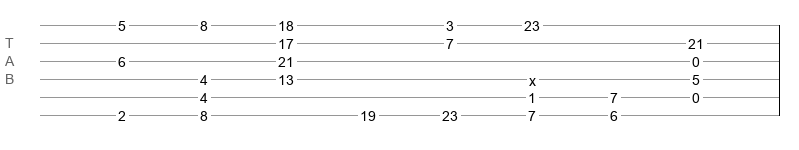0: (692, 90, 700, 100), (692, 54, 700, 64)
1: (528, 90, 536, 100)
13: (278, 72, 294, 82)
17: (278, 36, 294, 46)
18: (278, 18, 294, 28)
19: (360, 108, 376, 118)
2: (118, 108, 126, 118)
21: (278, 54, 294, 64), (688, 36, 704, 46)
23: (442, 108, 458, 118), (524, 18, 540, 28)
3: (446, 18, 454, 28)
4: (200, 90, 208, 100), (200, 72, 208, 82)
5: (118, 18, 126, 28), (692, 72, 700, 82)
6: (118, 54, 126, 64), (610, 108, 618, 118)
7: (446, 36, 454, 46), (528, 108, 536, 118), (610, 90, 618, 100)
8: (200, 108, 208, 118), (200, 18, 208, 28)
x: (529, 73, 536, 81)
